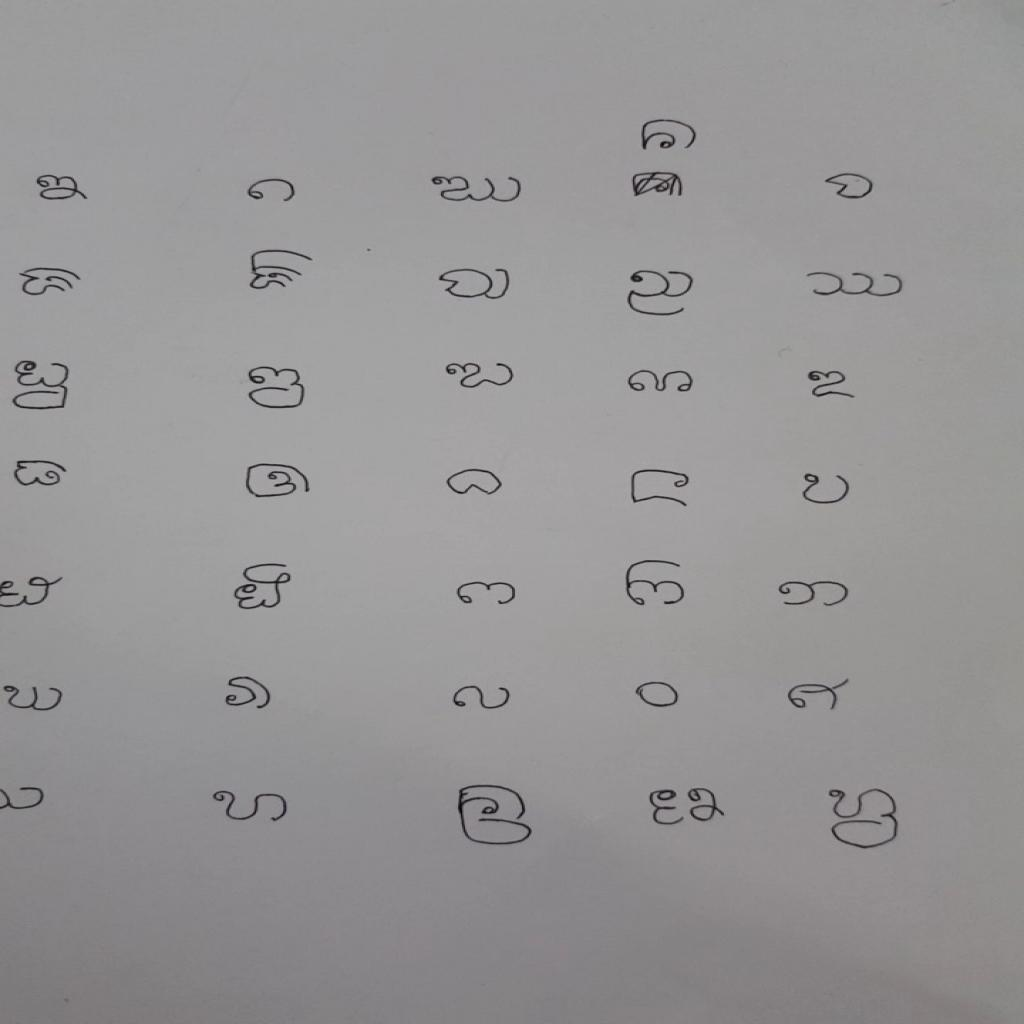LN002: (32, 173, 95, 205)
LN003: (242, 176, 303, 206)
LN004: (425, 173, 531, 208)
LN005: (636, 117, 705, 156)
LN006: (817, 171, 881, 203)
LN008: (13, 265, 89, 300)
LN009: (244, 247, 318, 294)
LN010: (433, 265, 518, 304)
LN011: (622, 267, 702, 320)
LN012: (799, 268, 912, 302)
LN014: (9, 358, 78, 415)
LN015: (242, 365, 312, 414)
LN016: (440, 360, 521, 393)
LN017: (622, 367, 701, 397)
LN018: (803, 369, 863, 403)
LN020: (9, 456, 75, 492)
LN021: (240, 460, 319, 503)
LN022: (441, 467, 511, 500)
LN023: (623, 466, 697, 511)
LN024: (796, 470, 858, 509)
LN027: (228, 561, 299, 614)
LN028: (452, 580, 525, 611)
LN029: (620, 556, 695, 612)
LN030: (772, 578, 858, 612)
LN032: (1, 681, 70, 715)
LN033: (217, 673, 283, 714)
LN034: (447, 683, 519, 716)
LN035: (629, 679, 688, 712)
LN036: (779, 677, 859, 716)
LN039: (206, 788, 297, 828)
LN040: (449, 782, 540, 851)
LN041: (637, 784, 735, 831)
LN042: (819, 784, 907, 853)
